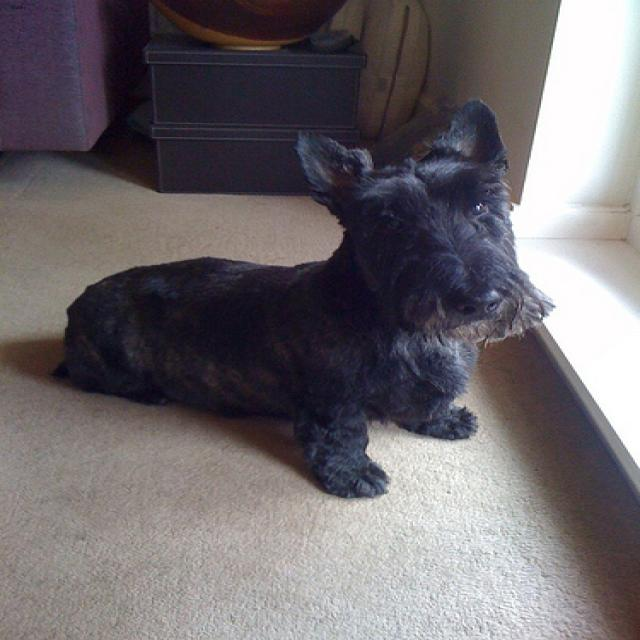dog-scottish_terrier: (43, 92, 575, 503)
